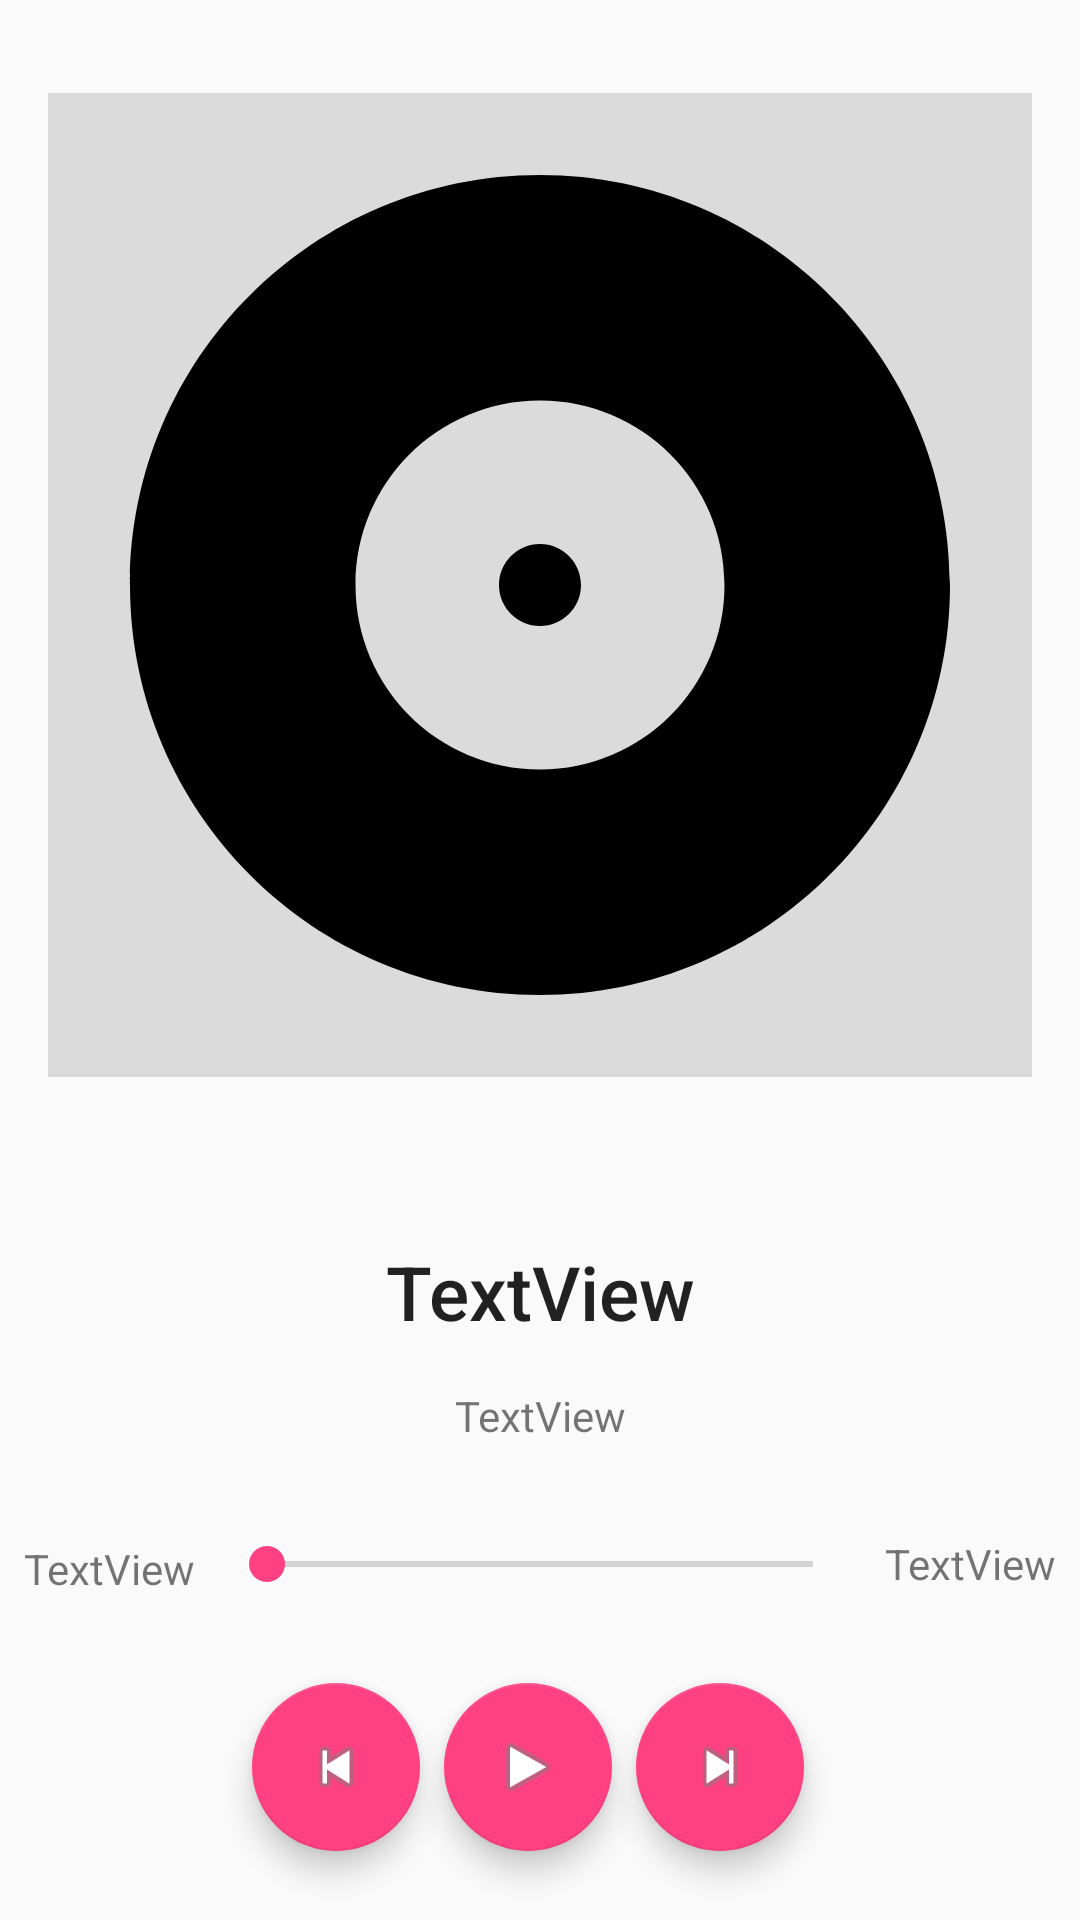

Icon bounding boxes for this 1080*1920 phone screenshot, format Rect(x1, y1, x2, y2):
next: Rect(636, 1683, 804, 1851)
play: Rect(444, 1683, 612, 1851)
previous: Rect(252, 1683, 420, 1851)
